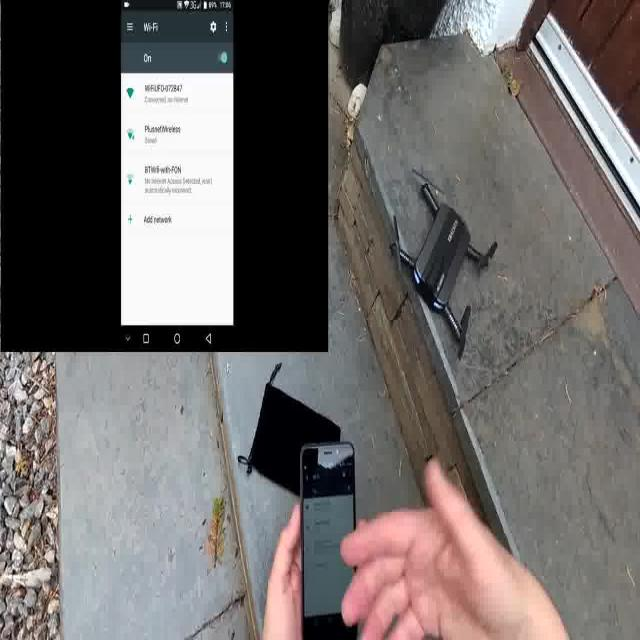Drone_FW: (376, 162, 499, 364)
